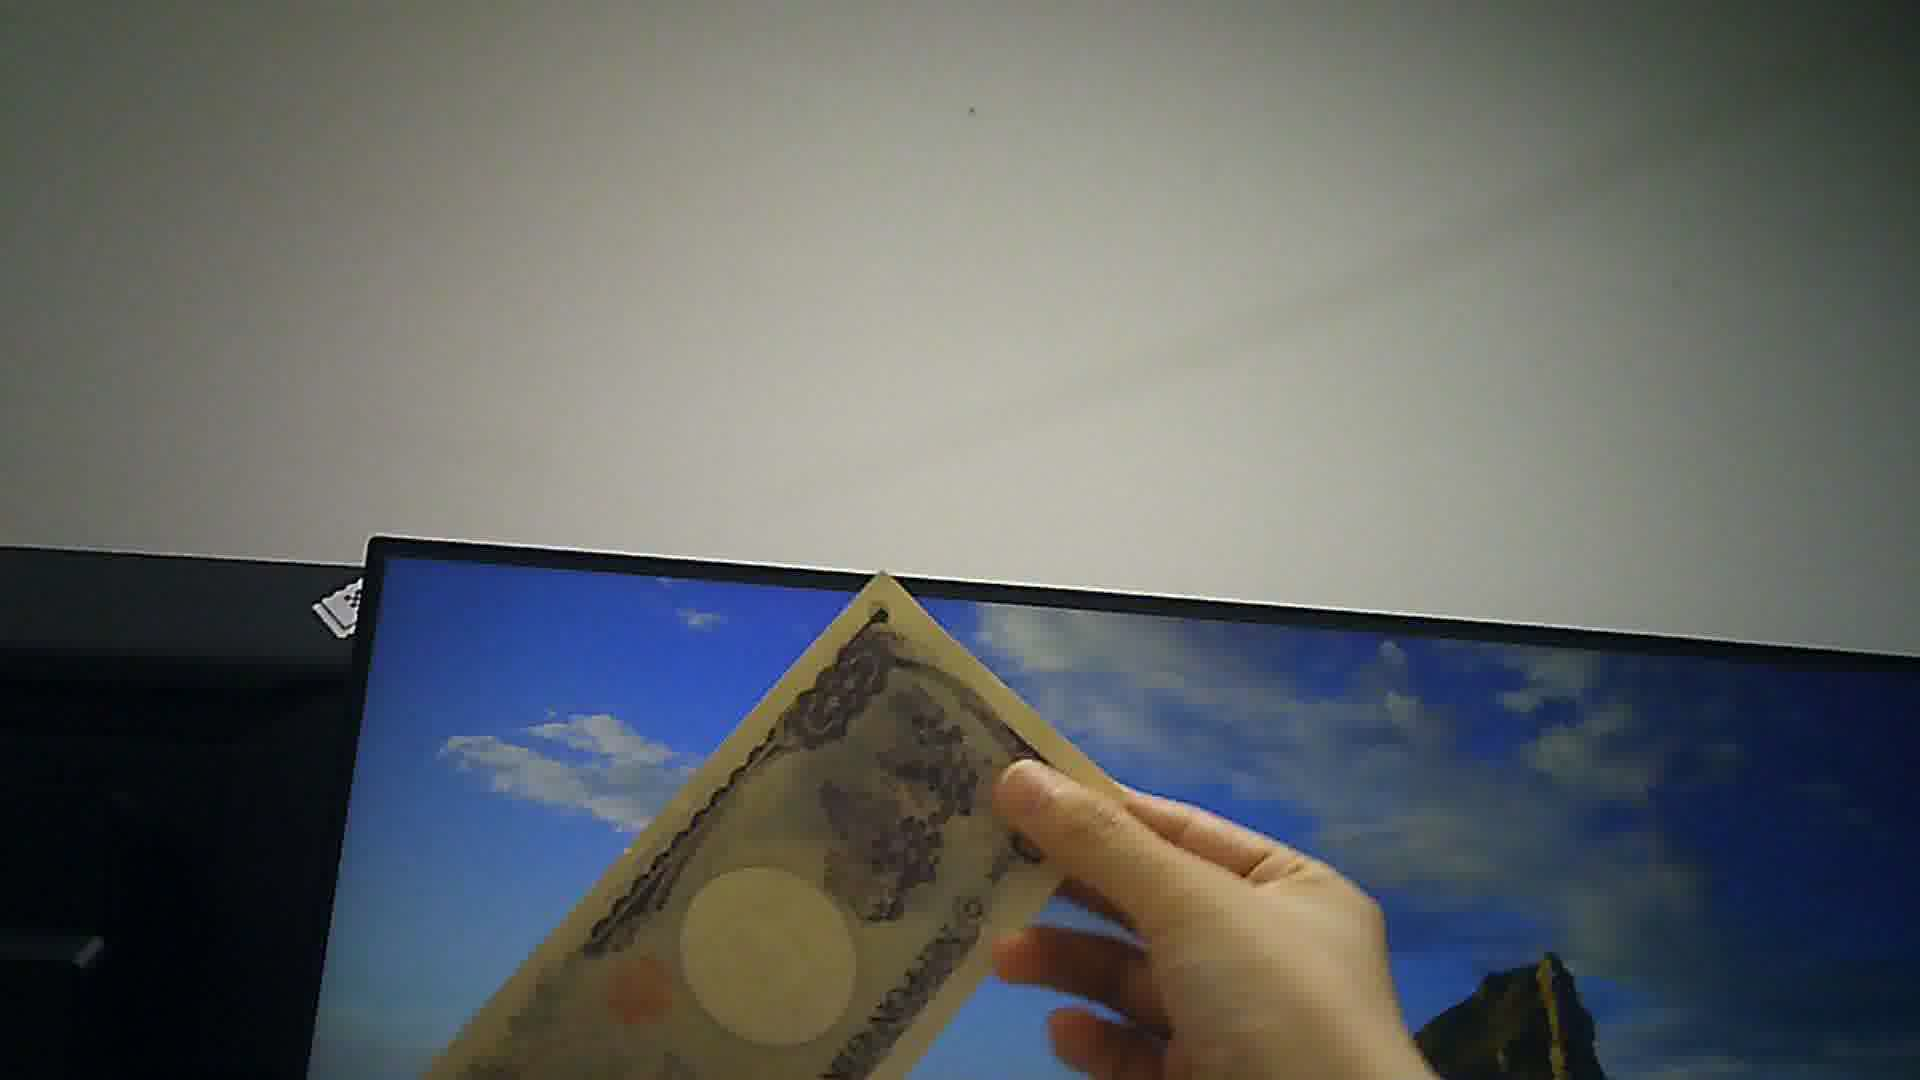5,000 Yen: (455, 583, 1104, 1079)
